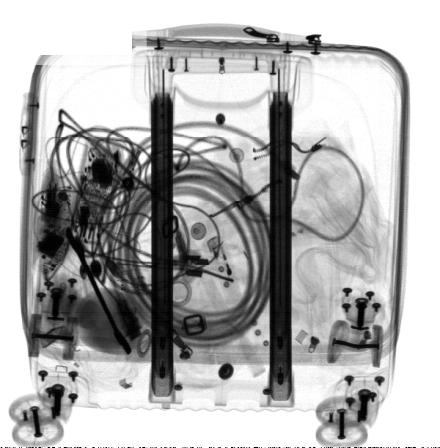Wrench: (66, 225, 132, 356)
